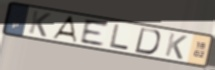A: (49, 15, 78, 44)
D: (133, 26, 162, 56)
E: (80, 19, 111, 47)
K: (26, 9, 53, 39), (163, 32, 189, 61)
L: (108, 23, 131, 51)
